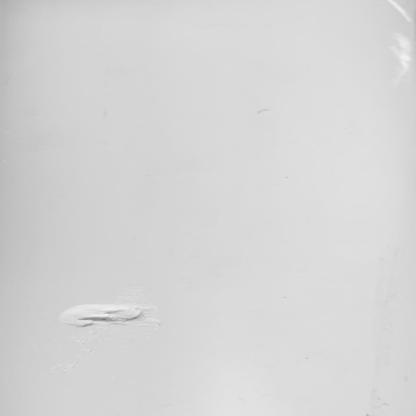sunshang: (61, 304, 144, 328), (396, 31, 415, 88), (387, 1, 416, 25)
